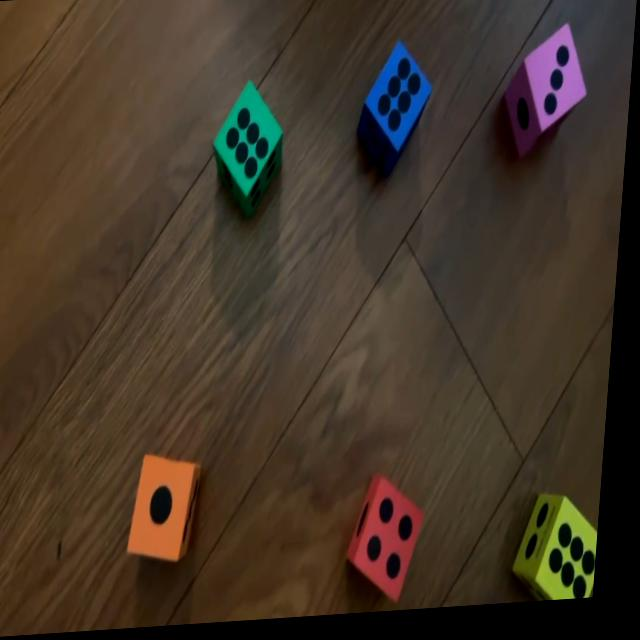cube: (357, 48, 436, 186), (210, 81, 288, 220), (354, 478, 433, 608)
